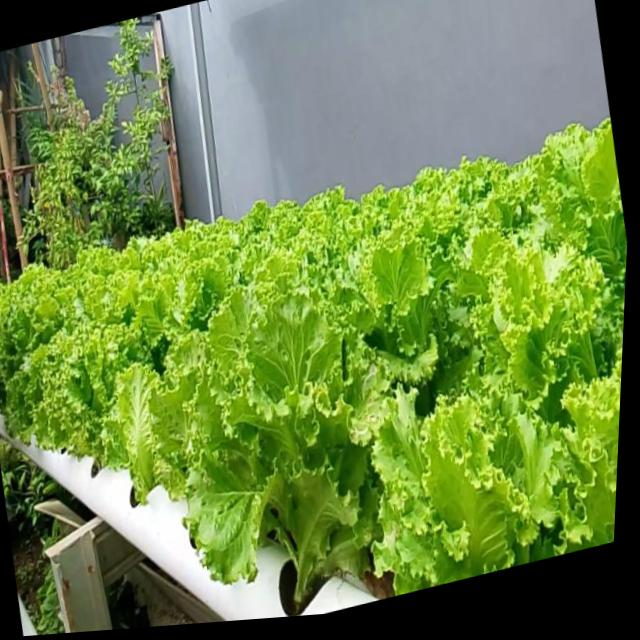Mature: (0, 120, 627, 615), (157, 292, 390, 613), (30, 317, 142, 470)
